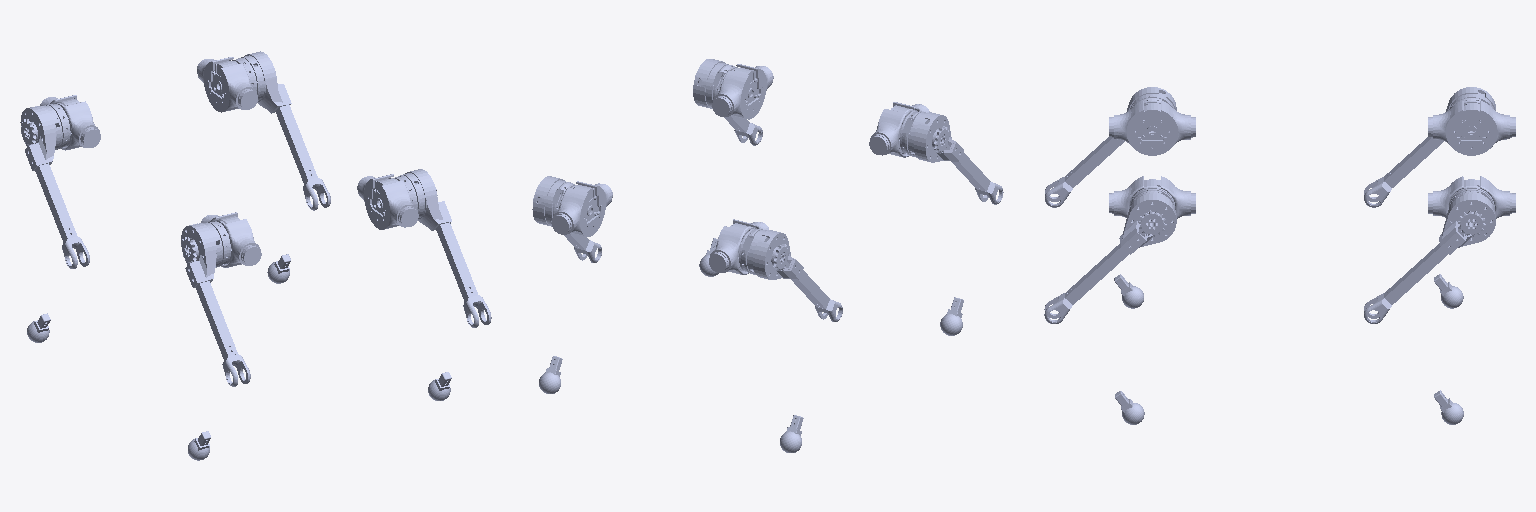
URDF robot description (NUDogv4):
<?xml version="1.0" encoding="utf-8"?>
<!-- This URDF was automatically created by SolidWorks to URDF Exporter! Originally created by [author] ([email redacted]) 
     Commit Version: 1.6.0-4-g7f85cfe  Build Version: 1.6.7995.38578
     For more information, please see http://wiki.ros.org/sw_urdf_exporter -->
<robot
  name="NUDogv4">
  <link
    name="Body">
    <inertial>
      <origin
        xyz="-0.000211548270024514 -0.455924903723439 0.520570759184668"
        rpy="0 0 0" />
      <mass
        value="7.3658966638029" />
      <inertia
        ixx="0.149737913482403"
        ixy="5.45660095017892E-07"
        ixz="-8.98208157193702E-13"
        iyy="0.0402457604729162"
        iyz="6.61238000966295E-11"
        izz="0.174510484060074" />
    </inertial>
    <visual>
      <origin
        xyz="0 0 0"
        rpy="0 0 0" />
      <geometry>
        <mesh
          filename="package://NUDogv4/meshes/Body.STL" />
      </geometry>
      <material
        name="">
        <color
          rgba="0.898039215686275 0.92156862745098 0.929411764705882 1" />
      </material>
    </visual>
    <collision>
      <origin
        xyz="0 0 0"
        rpy="0 0 0" />
      <geometry>
        <mesh
          filename="package://NUDogv4/meshes/Body.STL" />
      </geometry>
    </collision>
  </link>
  <link
    name="FR_1">
    <inertial>
      <origin
        xyz="-0.00176714022956819 0.000819654001147141 -0.0869564696489047"
        rpy="0 0 0" />
      <mass
        value="0.628306425345395" />
      <inertia
        ixx="0.00162123013189857"
        ixy="3.09906069011344E-06"
        ixz="-4.75997103606054E-08"
        iyy="0.00196763934294934"
        iyz="1.95223651534245E-07"
        izz="0.00053714617815285" />
    </inertial>
    <visual>
      <origin
        xyz="0 0 0"
        rpy="0 0 0" />
      <geometry>
        <mesh
          filename="package://NUDogv4/meshes/FR_1.STL" />
      </geometry>
      <material
        name="">
        <color
          rgba="0.792156862745098 0.819607843137255 0.933333333333333 1" />
      </material>
    </visual>
    <collision>
      <origin
        xyz="0 0 0"
        rpy="0 0 0" />
      <geometry>
        <mesh
          filename="package://NUDogv4/meshes/FR_1.STL" />
      </geometry>
    </collision>
  </link>
  <joint
    name="FR_Ad"
    type="revolute">
    <origin
      xyz="0.2 -0.19035 0.52"
      rpy="1.5708 -1.5708 0" />
    <parent
      link="Body" />
    <child
      link="FR_1" />
    <axis
      xyz="1 0 0" />
    <limit
      lower="-5"
      upper="5"
      effort="5"
      velocity="5" />
  </joint>
  <link
    name="FR_2">
    <inertial>
      <origin
        xyz="3.88653367526109E-05 -0.04400993464036 -0.0372579060272206"
        rpy="0 0 0" />
      <mass
        value="0.955322691719821" />
      <inertia
        ixx="0.00135385236540019"
        ixy="-1.30915451927057E-06"
        ixz="5.4056167079876E-08"
        iyy="0.000526597180168496"
        iyz="-1.02092745441853E-05"
        izz="0.00173666668493754" />
    </inertial>
    <visual>
      <origin
        xyz="0 0 0"
        rpy="0 0 0" />
      <geometry>
        <mesh
          filename="package://NUDogv4/meshes/FR_2.STL" />
      </geometry>
      <material
        name="">
        <color
          rgba="0.792156862745098 0.819607843137255 0.933333333333333 1" />
      </material>
    </visual>
    <collision>
      <origin
        xyz="0 0 0"
        rpy="0 0 0" />
      <geometry>
        <mesh
          filename="package://NUDogv4/meshes/FR_2.STL" />
      </geometry>
    </collision>
  </link>
  <joint
    name="FR_Hip"
    type="revolute">
    <origin
      xyz="0 -0.04635 -0.087"
      rpy="-1.5708 -0.78534 0" />
    <parent
      link="FR_1" />
    <child
      link="FR_2" />
    <axis
      xyz="0 1 0" />
    <limit
      lower="-5"
      upper="5"
      effort="5"
      velocity="5" />
  </joint>
  <link
    name="FR_3">
    <inertial>
      <origin
        xyz="0.0707933992377545 -0.0431437715996056 -0.0239079279277191"
        rpy="0 0 0" />
      <mass
        value="0.343745474492043" />
      <inertia
        ixx="0.00026733692341714"
        ixy="0.000338574960072996"
        ixz="-1.45406305589385E-10"
        iyy="0.00061318050300175"
        iyz="3.97591083581222E-10"
        izz="0.000845273984778606" />
    </inertial>
    <visual>
      <origin
        xyz="0 0 0"
        rpy="0 0 0" />
      <geometry>
        <mesh
          filename="package://NUDogv4/meshes/FR_3.STL" />
      </geometry>
      <material
        name="">
        <color
          rgba="0.647058823529412 0.619607843137255 0.588235294117647 1" />
      </material>
    </visual>
    <collision>
      <origin
        xyz="0 0 0"
        rpy="0 0 0" />
      <geometry>
        <mesh
          filename="package://NUDogv4/meshes/FR_3.STL" />
      </geometry>
    </collision>
  </link>
  <joint
    name="FR_Knee"
    type="revolute">
    <origin
      xyz="0.00025 -0.3066 -0.083724"
      rpy="3.1416 0 2.7668" />
    <parent
      link="FR_2" />
    <child
      link="FR_3" />
    <axis
      xyz="0 1 0" />
    <limit
      lower="-5"
      upper="5"
      effort="5"
      velocity="5" />
  </joint>
  <link
    name="FR_F">
    <inertial>
      <origin
        xyz="0.253448635764736 -0.154384597186353 -0.0238124999987328"
        rpy="0 0 0" />
      <mass
        value="0.0795066905193" />
      <inertia
        ixx="2.25262744988979E-05"
        ixy="8.27937129743171E-06"
        ixz="1.273180932029E-15"
        iyy="3.09833510354308E-05"
        iyz="-8.17015249736315E-16"
        izz="3.60278364076971E-05" />
    </inertial>
    <visual>
      <origin
        xyz="0 0 0"
        rpy="0 0 0" />
      <geometry>
        <mesh
          filename="package://NUDogv4/meshes/FR_F.STL" />
      </geometry>
      <material
        name="">
        <color
          rgba="0.792156862745098 0.819607843137255 0.933333333333333 1" />
      </material>
    </visual>
    <collision>
      <origin
        xyz="0 0 0"
        rpy="0 0 0" />
      <geometry>
        <mesh
          filename="package://NUDogv4/meshes/FR_F.STL" />
      </geometry>
    </collision>
  </link>
  <joint
    name="FR_Ank"
    type="fixed">
    <origin
      xyz="0 0 0"
      rpy="0 0 0" />
    <parent
      link="FR_3" />
    <child
      link="FR_F" />
    <axis
      xyz="0 0 0" />
  </joint>
  <link
    name="FL_1">
    <inertial>
      <origin
        xyz="-0.00176714526033473 -0.000819664820074839 -0.0870435354363931"
        rpy="0 0 0" />
      <mass
        value="0.628305321520991" />
      <inertia
        ixx="0.00162123211647626"
        ixy="-3.09902629211013E-06"
        ixz="4.82593164647273E-08"
        iyy="0.00196763709474905"
        iyz="1.9528467930745E-07"
        izz="0.000537145766319732" />
    </inertial>
    <visual>
      <origin
        xyz="0 0 0"
        rpy="0 0 0" />
      <geometry>
        <mesh
          filename="package://NUDogv4/meshes/FL_1.STL" />
      </geometry>
      <material
        name="">
        <color
          rgba="0.792156862745098 0.819607843137255 0.933333333333333 1" />
      </material>
    </visual>
    <collision>
      <origin
        xyz="0 0 0"
        rpy="0 0 0" />
      <geometry>
        <mesh
          filename="package://NUDogv4/meshes/FL_1.STL" />
      </geometry>
    </collision>
  </link>
  <joint
    name="FL_Ad"
    type="revolute">
    <origin
      xyz="-0.2 -0.19035 0.52"
      rpy="1.5708 -1.5708 0" />
    <parent
      link="Body" />
    <child
      link="FL_1" />
    <axis
      xyz="1 0 0" />
    <limit
      lower="-5"
      upper="5"
      effort="5"
      velocity="5" />
  </joint>
  <link
    name="FL_2">
    <inertial>
      <origin
        xyz="6.88107812813338E-05 -0.0439891388524125 -0.0372579049058313"
        rpy="0 0 0" />
      <mass
        value="0.955322588026012" />
      <inertia
        ixx="0.00135382448785464"
        ixy="-1.33675940199748E-06"
        ixz="-4.18973189680303E-07"
        iyy="0.000526625025236412"
        iyz="-1.04897295999323E-05"
        izz="0.0017366666637274" />
    </inertial>
    <visual>
      <origin
        xyz="0 0 0"
        rpy="0 0 0" />
      <geometry>
        <mesh
          filename="package://NUDogv4/meshes/FL_2.STL" />
      </geometry>
      <material
        name="">
        <color
          rgba="0.792156862745098 0.819607843137255 0.933333333333333 1" />
      </material>
    </visual>
    <collision>
      <origin
        xyz="0 0 0"
        rpy="0 0 0" />
      <geometry>
        <mesh
          filename="package://NUDogv4/meshes/FL_2.STL" />
      </geometry>
    </collision>
  </link>
  <joint
    name="FL_Hip"
    type="revolute">
    <origin
      xyz="0 0.04635 -0.087"
      rpy="-1.5708 0.78534 3.1416" />
    <parent
      link="FL_1" />
    <child
      link="FL_2" />
    <axis
      xyz="0 1 0" />
    <limit
      lower="-5"
      upper="5"
      effort="5"
      velocity="5" />
  </joint>
  <link
    name="FL_3">
    <inertial>
      <origin
        xyz="0.071087800675071 -0.0436059712263585 -0.636240072076417"
        rpy="0 0 0" />
      <mass
        value="0.34374547539016" />
      <inertia
        ixx="0.000267338174174542"
        ixy="0.0003385755990429"
        ixz="4.13806569115431E-10"
        iyy="0.000613179252915724"
        iyz="5.67496546800636E-11"
        izz="0.000845273985462778" />
    </inertial>
    <visual>
      <origin
        xyz="0 0 0"
        rpy="0 0 0" />
      <geometry>
        <mesh
          filename="package://NUDogv4/meshes/FL_3.STL" />
      </geometry>
      <material
        name="">
        <color
          rgba="0.192156862745098 0.203921568627451 0.203921568627451 1" />
      </material>
    </visual>
    <collision>
      <origin
        xyz="0 0 0"
        rpy="0 0 0" />
      <geometry>
        <mesh
          filename="package://NUDogv4/meshes/FL_3.STL" />
      </geometry>
    </collision>
  </link>
  <joint
    name="FL_Knee"
    type="revolute">
    <origin
      xyz="-0.00025 -0.3066 0.57642"
      rpy="0 0 0.37477" />
    <parent
      link="FL_2" />
    <child
      link="FL_3" />
    <axis
      xyz="0 1 0" />
    <limit
      lower="-5"
      upper="5"
      effort="5"
      velocity="5" />
  </joint>
  <link
    name="FL_F">
    <inertial>
      <origin
        xyz="0.00065000000428983 -0.296766561996807 -0.00019320000126799"
        rpy="0 0 0" />
      <mass
        value="0.0795066905193" />
      <inertia
        ixx="3.60515070703525E-05"
        ixy="5.22651431004604E-15"
        ixz="-3.21100669825951E-17"
        iyy="1.74581184639763E-05"
        iyz="1.51240202779392E-15"
        izz="3.60278364076971E-05" />
    </inertial>
    <visual>
      <origin
        xyz="0 0 0"
        rpy="0 0 0" />
      <geometry>
        <mesh
          filename="package://NUDogv4/meshes/FL_F.STL" />
      </geometry>
      <material
        name="">
        <color
          rgba="0.792156862745098 0.819607843137255 0.933333333333333 1" />
      </material>
    </visual>
    <collision>
      <origin
        xyz="0 0 0"
        rpy="0 0 0" />
      <geometry>
        <mesh
          filename="package://NUDogv4/meshes/FL_F.STL" />
      </geometry>
    </collision>
  </link>
  <joint
    name="FL_Ank"
    type="fixed">
    <origin
      xyz="0.0004653 -0.00018303 -0.63653"
      rpy="3.1416 0 -2.1201" />
    <parent
      link="FL_3" />
    <child
      link="FL_F" />
    <axis
      xyz="0 0 0" />
  </joint>
  <link
    name="BR_1">
    <inertial>
      <origin
        xyz="0.00176714526033449 -0.000819664820074922 0.0870435354363934"
        rpy="0 0 0" />
      <mass
        value="0.628305321520992" />
      <inertia
        ixx="0.00162123211647625"
        ixy="3.09902629211019E-06"
        ixz="4.82593164643971E-08"
        iyy="0.00196763709474905"
        iyz="-1.95284679307816E-07"
        izz="0.000537145766319733" />
    </inertial>
    <visual>
      <origin
        xyz="0 0 0"
        rpy="0 0 0" />
      <geometry>
        <mesh
          filename="package://NUDogv4/meshes/BR_1.STL" />
      </geometry>
      <material
        name="">
        <color
          rgba="0.792156862745098 0.819607843137255 0.933333333333333 1" />
      </material>
    </visual>
    <collision>
      <origin
        xyz="0 0 0"
        rpy="0 0 0" />
      <geometry>
        <mesh
          filename="package://NUDogv4/meshes/BR_1.STL" />
      </geometry>
    </collision>
  </link>
  <joint
    name="BR_Ad"
    type="revolute">
    <origin
      xyz="0.2 -0.72405 0.52"
      rpy="1.5708 1.5708 0" />
    <parent
      link="Body" />
    <child
      link="BR_1" />
    <axis
      xyz="1 0 0" />
    <limit
      lower="-5"
      upper="5"
      effort="5"
      velocity="5" />
  </joint>
  <link
    name="BR_2">
    <inertial>
      <origin
        xyz="3.88641970419101E-05 -0.0440099426088791 -0.0372579046913361"
        rpy="0 0 0" />
      <mass
        value="0.955322561188065" />
      <inertia
        ixx="0.00135385235000691"
        ixy="-1.30914674325349E-06"
        ixz="5.40634688879456E-08"
        iyy="0.000526597159136105"
        iyz="-1.02092692444392E-05"
        izz="0.00173666666324501" />
    </inertial>
    <visual>
      <origin
        xyz="0 0 0"
        rpy="0 0 0" />
      <geometry>
        <mesh
          filename="package://NUDogv4/meshes/BR_2.STL" />
      </geometry>
      <material
        name="">
        <color
          rgba="0.792156862745098 0.819607843137255 0.933333333333333 1" />
      </material>
    </visual>
    <collision>
      <origin
        xyz="0 0 0"
        rpy="0 0 0" />
      <geometry>
        <mesh
          filename="package://NUDogv4/meshes/BR_2.STL" />
      </geometry>
    </collision>
  </link>
  <joint
    name="BR_Hip"
    type="revolute">
    <origin
      xyz="0 0.04635 0.087"
      rpy="-1.5708 -0.78534 -3.1416" />
    <parent
      link="BR_1" />
    <child
      link="BR_2" />
    <axis
      xyz="0 1 0" />
    <limit
      lower="-5"
      upper="5"
      effort="5"
      velocity="5" />
  </joint>
  <link
    name="BR_3">
    <inertial>
      <origin
        xyz="-0.0813199475538939 -0.0161293685843369 0.0175579279290014"
        rpy="0 0 0" />
      <mass
        value="0.343745474558939" />
      <inertia
        ixx="8.94370936715579E-05"
        ixy="-0.000146489386094053"
        ixz="-2.7341677210441E-10"
        iyy="0.000791080332753365"
        iyz="-3.23211608813054E-10"
        izz="0.000845273984783798" />
    </inertial>
    <visual>
      <origin
        xyz="0 0 0"
        rpy="0 0 0" />
      <geometry>
        <mesh
          filename="package://NUDogv4/meshes/BR_3.STL" />
      </geometry>
      <material
        name="">
        <color
          rgba="0.647058823529412 0.619607843137255 0.588235294117647 1" />
      </material>
    </visual>
    <collision>
      <origin
        xyz="0 0 0"
        rpy="0 0 0" />
      <geometry>
        <mesh
          filename="package://NUDogv4/meshes/BR_3.STL" />
      </geometry>
    </collision>
  </link>
  <joint
    name="BR_Knee"
    type="revolute">
    <origin
      xyz="0.00025 -0.3066 -0.077374"
      rpy="0 0 -0.023244" />
    <parent
      link="BR_2" />
    <child
      link="BR_3" />
    <axis
      xyz="0 1 0" />
    <limit
      lower="-5"
      upper="5"
      effort="5"
      velocity="5" />
  </joint>
  <link
    name="BR_F">
    <inertial>
      <origin
        xyz="-0.291109034136664 -0.0576744749730584 0.0174624999987329"
        rpy="0 0 0" />
      <mass
        value="0.0795066905193" />
      <inertia
        ixx="1.8175981459539E-05"
        ixy="-3.58220300405169E-06"
        ixz="1.47663654585947E-15"
        iyy="3.53336440747897E-05"
        iyz="3.2867529280903E-16"
        izz="3.60278364076971E-05" />
    </inertial>
    <visual>
      <origin
        xyz="0 0 0"
        rpy="0 0 0" />
      <geometry>
        <mesh
          filename="package://NUDogv4/meshes/BR_F.STL" />
      </geometry>
      <material
        name="">
        <color
          rgba="0.792156862745098 0.819607843137255 0.933333333333333 1" />
      </material>
    </visual>
    <collision>
      <origin
        xyz="0 0 0"
        rpy="0 0 0" />
      <geometry>
        <mesh
          filename="package://NUDogv4/meshes/BR_F.STL" />
      </geometry>
    </collision>
  </link>
  <joint
    name="BR_Ank"
    type="fixed">
    <origin
      xyz="0 0 0"
      rpy="0 0 0" />
    <parent
      link="BR_3" />
    <child
      link="BR_F" />
    <axis
      xyz="0 0 0" />
  </joint>
  <link
    name="BL_1">
    <inertial>
      <origin
        xyz="0.00176714022956802 0.000819654001147085 0.0869564696489052"
        rpy="0 0 0" />
      <mass
        value="0.628306425345398" />
      <inertia
        ixx="0.00162123013189857"
        ixy="-3.09906069011292E-06"
        ixz="-4.75997103593867E-08"
        iyy="0.00196763934294934"
        iyz="-1.9522365153407E-07"
        izz="0.000537146178152853" />
    </inertial>
    <visual>
      <origin
        xyz="0 0 0"
        rpy="0 0 0" />
      <geometry>
        <mesh
          filename="package://NUDogv4/meshes/BL_1.STL" />
      </geometry>
      <material
        name="">
        <color
          rgba="0.792156862745098 0.819607843137255 0.933333333333333 1" />
      </material>
    </visual>
    <collision>
      <origin
        xyz="0 0 0"
        rpy="0 0 0" />
      <geometry>
        <mesh
          filename="package://NUDogv4/meshes/BL_1.STL" />
      </geometry>
    </collision>
  </link>
  <joint
    name="BL_Ad"
    type="revolute">
    <origin
      xyz="-0.2 -0.72405 0.52"
      rpy="1.5708 1.5708 0" />
    <parent
      link="Body" />
    <child
      link="BL_1" />
    <axis
      xyz="1 0 0" />
    <limit
      lower="-5"
      upper="5"
      effort="5"
      velocity="5" />
  </joint>
  <link
    name="BL_2">
    <inertial>
      <origin
        xyz="6.8810906333816E-05 -0.0439891392721496 -0.0372579044740784"
        rpy="0 0 0" />
      <mass
        value="0.955322565128304" />
      <inertia
        ixx="0.00135382448498683"
        ixy="-1.33676015154965E-06"
        ixz="-4.18972136971195E-07"
        iyy="0.000526625023518765"
        iyz="-1.04897298930058E-05"
        izz="0.00173666666180803" />
    </inertial>
    <visual>
      <origin
        xyz="0 0 0"
        rpy="0 0 0" />
      <geometry>
        <mesh
          filename="package://NUDogv4/meshes/BL_2.STL" />
      </geometry>
      <material
        name="">
        <color
          rgba="0.792156862745098 0.819607843137255 0.933333333333333 1" />
      </material>
    </visual>
    <collision>
      <origin
        xyz="0 0 0"
        rpy="0 0 0" />
      <geometry>
        <mesh
          filename="package://NUDogv4/meshes/BL_2.STL" />
      </geometry>
    </collision>
  </link>
  <joint
    name="BL_Hip"
    type="revolute">
    <origin
      xyz="0 -0.04635 0.087"
      rpy="-1.5708 0.78534 0" />
    <parent
      link="BL_1" />
    <child
      link="BL_2" />
    <axis
      xyz="0 1 0" />
    <limit
      lower="-5"
      upper="5"
      effort="5"
      velocity="5" />
  </joint>
  <link
    name="BL_3">
    <inertial>
      <origin
        xyz="0.000163668403443173 -0.0829039403031343 -0.000288627926077922"
        rpy="0 0 0" />
      <mass
        value="0.343745475487072" />
      <inertia
        ixx="0.000820436236817762"
        ixy="7.02277358980558E-10"
        ixz="2.64445633291052E-10"
        iyy="6.00811902731063E-05"
        iyz="3.2330456790468E-10"
        izz="0.000845273985461645" />
    </inertial>
    <visual>
      <origin
        xyz="0 0 0"
        rpy="0 0 0" />
      <geometry>
        <mesh
          filename="package://NUDogv4/meshes/BL_3.STL" />
      </geometry>
      <material
        name="">
        <color
          rgba="0.192156862745098 0.203921568627451 0.203921568627451 1" />
      </material>
    </visual>
    <collision>
      <origin
        xyz="0 0 0"
        rpy="0 0 0" />
      <geometry>
        <mesh
          filename="package://NUDogv4/meshes/BL_3.STL" />
      </geometry>
    </collision>
  </link>
  <joint
    name="BL_Knee"
    type="revolute">
    <origin
      xyz="0.00025 -0.3066 -0.060105"
      rpy="3.1416 0 -1.7453" />
    <parent
      link="BL_2" />
    <child
      link="BL_3" />
    <axis
      xyz="0 1 0" />
    <limit
      lower="-5"
      upper="5"
      effort="5"
      velocity="5" />
  </joint>
  <link
    name="BL_F">
    <inertial>
      <origin
        xyz="0.000650000004288609 -0.296766561996807 -0.00019320000126799"
        rpy="0 0 0" />
      <mass
        value="0.0795066905193" />
      <inertia
        ixx="3.60515070703525E-05"
        ixy="5.22642367752069E-15"
        ixz="-3.2111301130762E-17"
        iyy="1.74581184639763E-05"
        iyz="1.51239582880729E-15"
        izz="3.60278364076971E-05" />
    </inertial>
    <visual>
      <origin
        xyz="0 0 0"
        rpy="0 0 0" />
      <geometry>
        <mesh
          filename="package://NUDogv4/meshes/BL_F.STL" />
      </geometry>
      <material
        name="">
        <color
          rgba="0.792156862745098 0.819607843137255 0.933333333333333 1" />
      </material>
    </visual>
    <collision>
      <origin
        xyz="0 0 0"
        rpy="0 0 0" />
      <geometry>
        <mesh
          filename="package://NUDogv4/meshes/BL_F.STL" />
      </geometry>
    </collision>
  </link>
  <joint
    name="BL_Ank"
    type="fixed">
    <origin
      xyz="0 0 0"
      rpy="0 0 0" />
    <parent
      link="BL_3" />
    <child
      link="BL_F" />
    <axis
      xyz="0 0 0" />
  </joint>
</robot>

--- Facts derived from the render (not from the file) ---
The picture shows the robot from 3 angles, left to right: view 1: azimuth 30°, elevation 25°; view 2: azimuth 150°, elevation 25°; view 3: azimuth 270°, elevation 25°; orthographic projection.
Model NUDogv4 with 17 links and 16 joints (12 revolute, 4 fixed), rooted at Body, posed every joint at zero.
Visible links, largest first — view 1: FL_2, BL_2, BR_2, FR_2, BR_1, FR_1, BL_1, FL_1; view 2: BL_2, FL_2, FR_1, BR_1, BR_2, FR_2, BL_1, FL_1, BL_F, FL_F, FR_F; view 3: BR_2, FR_2, FL_1, BL_1, BL_2, FL_2, FR_1, BR_1, FR_F, FL_F, BR_F, BL_F.
Link boxes in pixels (box(x1,y1,x2,y2)): FL_2: box(20, 104, 89, 268); BL_2: box(181, 221, 250, 386); BR_2: box(395, 169, 491, 327); FR_2: box(232, 51, 330, 210); BR_1: box(357, 174, 418, 229); FR_1: box(197, 57, 257, 112); BL_1: box(201, 212, 261, 267); FL_1: box(40, 95, 100, 150); BL_2: box(900, 111, 1003, 204); FL_2: box(739, 228, 842, 321); FR_1: box(551, 181, 612, 236); BR_1: box(712, 64, 773, 119); BR_2: box(693, 59, 762, 145); FR_2: box(532, 176, 601, 262); BL_1: box(869, 102, 929, 157); FL_1: box(709, 219, 768, 274); BL_F: box(940, 297, 963, 335); FL_F: box(780, 415, 803, 452); FR_F: box(539, 356, 562, 393); BR_2: box(1044, 189, 1176, 323); FR_2: box(1364, 189, 1495, 323); FL_1: box(1428, 101, 1515, 155); BL_1: box(1109, 101, 1195, 155); BL_2: box(1045, 87, 1176, 207); FL_2: box(1364, 87, 1495, 207); FR_1: box(1428, 176, 1515, 218); BR_1: box(1109, 176, 1195, 218); FR_F: box(1434, 390, 1463, 424); FL_F: box(1434, 274, 1463, 308); BR_F: box(1115, 391, 1144, 424); BL_F: box(1114, 274, 1143, 308).
Bounding box of the posed robot: 0.6625 × 1.04 × 0.5448 m (x, y, z).
12 mesh visuals loaded from 17 distinct referenced files (12 binary STL); not drawn: 5 (reference not matched to a file when rendering).